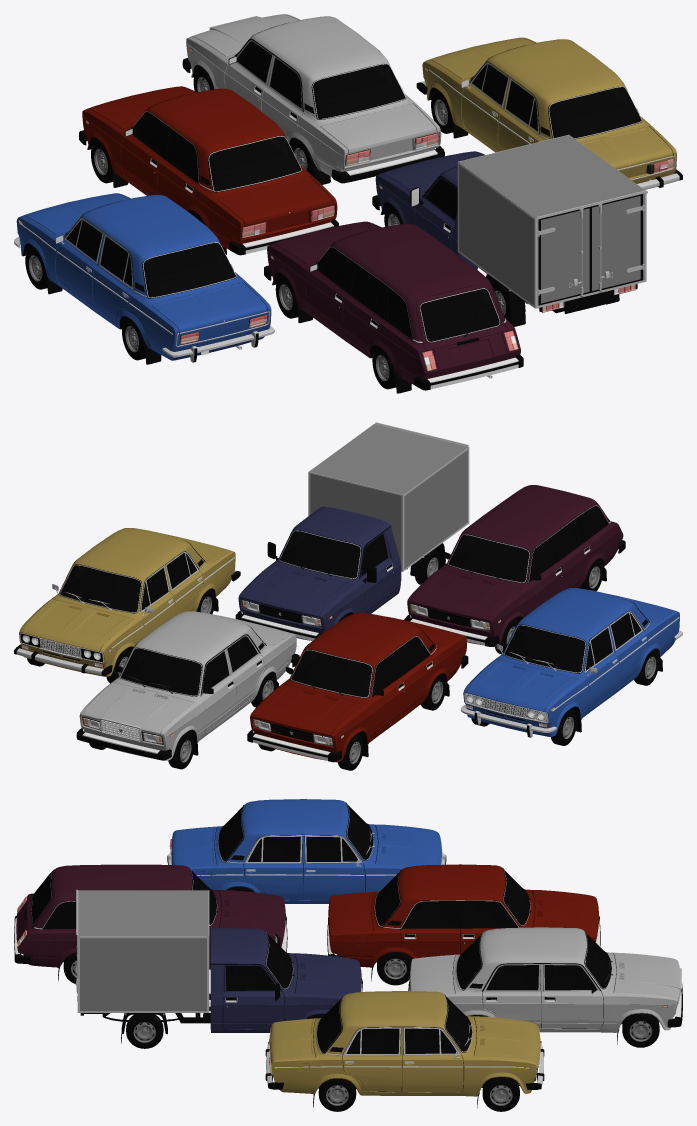
Rendered from lada_zhiguli_riva.glb.
3 renders of one model, top to bottom at view 1: azimuth 30°, elevation 25°; view 2: azimuth 150°, elevation 25°; view 3: azimuth 270°, elevation 25°, orthographic. The views are drawn at different scales.
Visible parts, largest first — view 1: box2345, body04, body03, body05, body07, body06, body2345, bumpers04, bumpers07, chassis2345, bumpers05, bumpers03 (+8 smaller); view 2: body04, body03, body05, body07, body06, box2345, body2345, bumpers07, bumpers05, bumpers06, grille03, bumpers03 (+8 smaller); view 3: body06, body07, body03, body05, box2345, body2345, body04, wheel RR2345, wheel FR06, wheel FR07, wheel RR06, wheel RR05 (+2 smaller).
Part boxes in pixels (x1,y1,x2,y2): box2345: (457, 134, 646, 308); body04: (267, 221, 520, 384); body03: (16, 193, 271, 360); body05: (82, 86, 337, 249); body07: (186, 14, 441, 176); body06: (422, 37, 676, 183); body2345: (375, 151, 484, 269); bumpers04: (264, 265, 523, 390); bumpers07: (182, 58, 444, 183); chassis2345: (478, 267, 637, 315); bumpers05: (79, 130, 338, 255); bumpers03: (14, 236, 274, 362); body04: (407, 485, 623, 646); body03: (463, 588, 679, 736); body05: (250, 612, 466, 762); body07: (79, 611, 296, 760); body06: (19, 528, 235, 676); box2345: (308, 422, 469, 571); body2345: (238, 506, 401, 640); bumpers07: (76, 653, 299, 760); bumpers05: (247, 655, 468, 762); bumpers06: (14, 570, 240, 675); grille03: (464, 692, 548, 723); bumpers03: (461, 630, 682, 737); body06: (269, 991, 540, 1096); body07: (409, 927, 680, 1032); body03: (171, 799, 441, 903); body05: (328, 864, 599, 967); box2345: (75, 889, 209, 1012); body2345: (210, 928, 361, 1032); body04: (16, 864, 285, 969); wheel RR2345: (126, 1014, 163, 1048); wheel FR06: (482, 1077, 519, 1111); wheel FR07: (622, 1013, 659, 1047); wheel RR06: (318, 1078, 356, 1111); wheel RR05: (377, 952, 412, 985).
Size of the model in its own units: 8.41 by 1.88 by 9.87.
